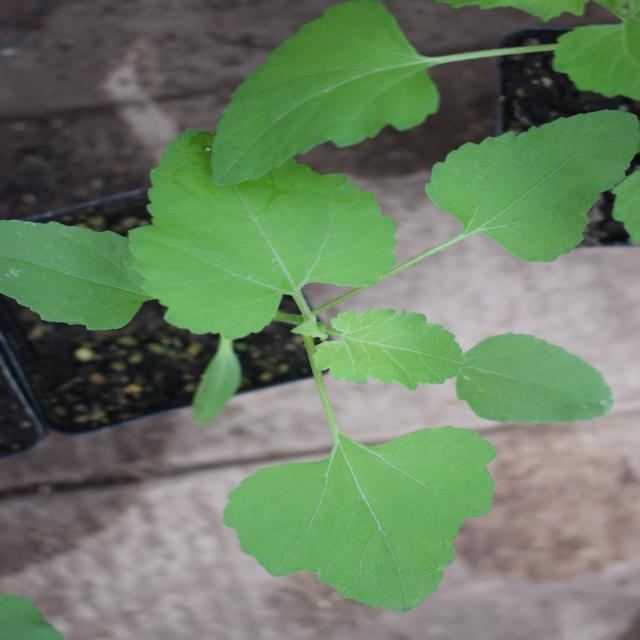cocklebur: (66, 27, 586, 534)
